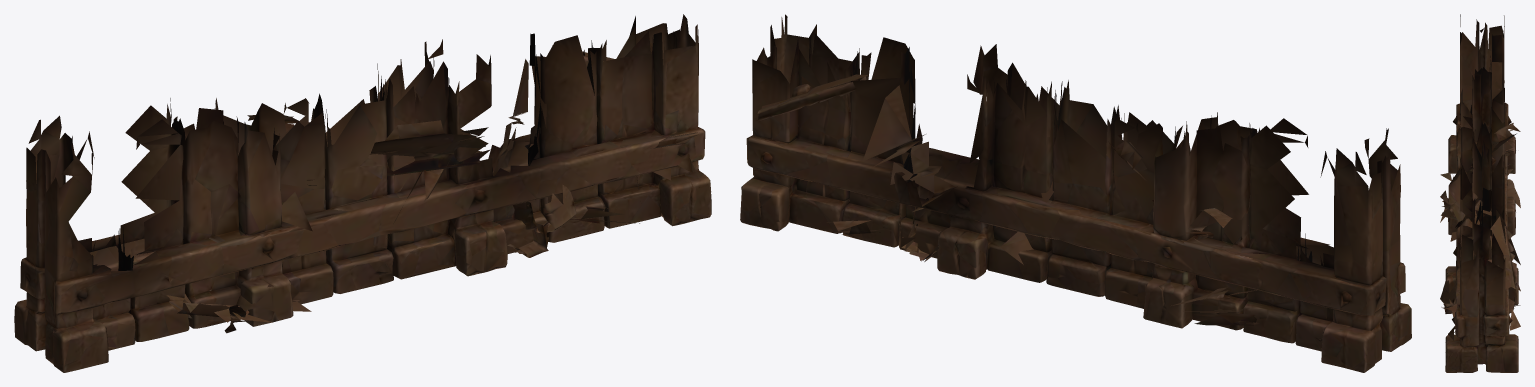
File: wall_large_destroyed.glb
3 renders of one model, left to right at view 1: azimuth 30°, elevation 25°; view 2: azimuth 150°, elevation 25°; view 3: azimuth 270°, elevation 25°, orthographic. The views are drawn at different scales.
Size of the model in its own units: 1.89 by 0.6232 by 0.3005.
Materials: 1 (1 with a texture image).
